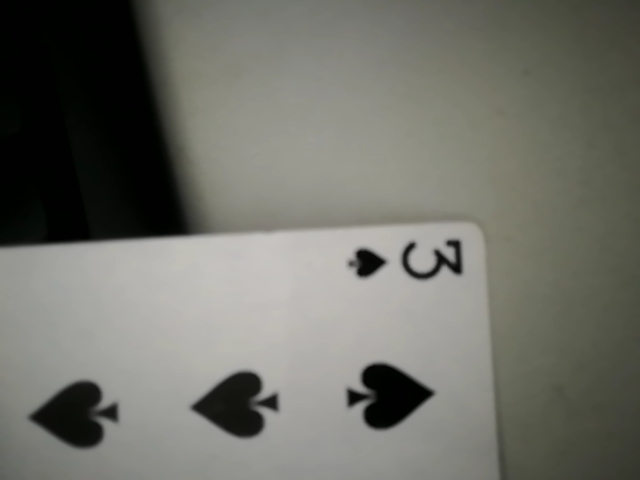ht 3: (0, 214, 507, 480)
